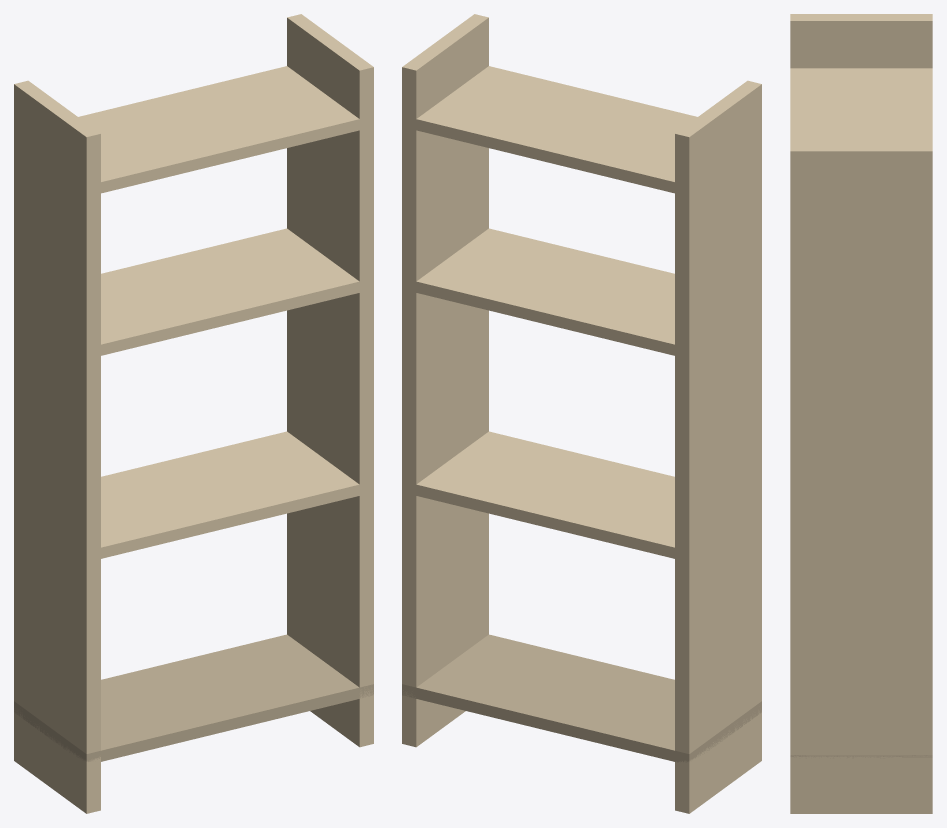
Rendered from estante.glb.
3 renders of one model, left to right at view 1: azimuth 30°, elevation 25°; view 2: azimuth 150°, elevation 25°; view 3: azimuth 270°, elevation 25°, orthographic. The views are drawn at different scales.
Bounding box in the file's own units: 0.8 × 1.8 × 0.35.
